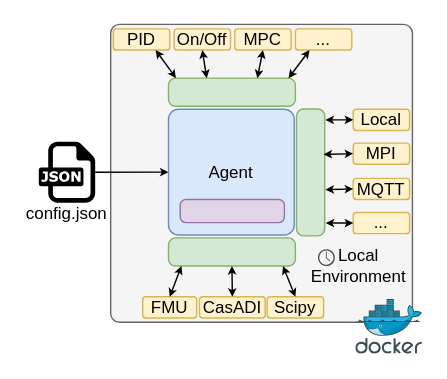
This 447x379 diagram has some shape labels left out. Here are the shapes that lost their labels. From the top down, the box of each, then its label:
(167, 77, 295, 106): Controller
(295, 108, 325, 236): Communicator
(179, 198, 284, 223): Cache
(167, 236, 295, 266): ModelHandler
